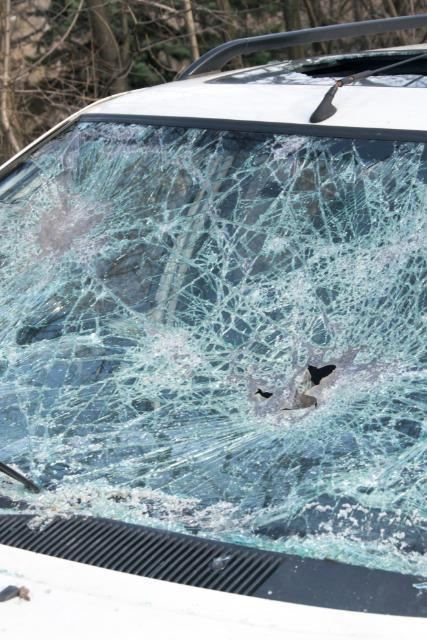Windshield: (0, 110, 427, 560)
